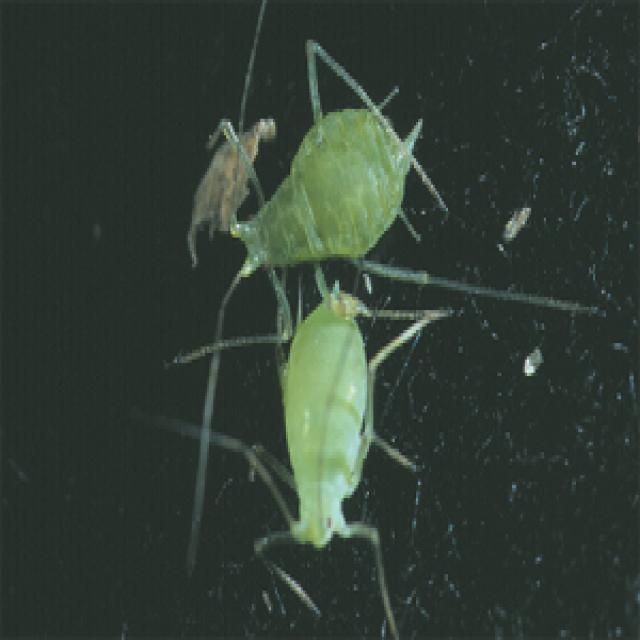Aphid-Grown-: (238, 285, 424, 586), (232, 56, 438, 305)
